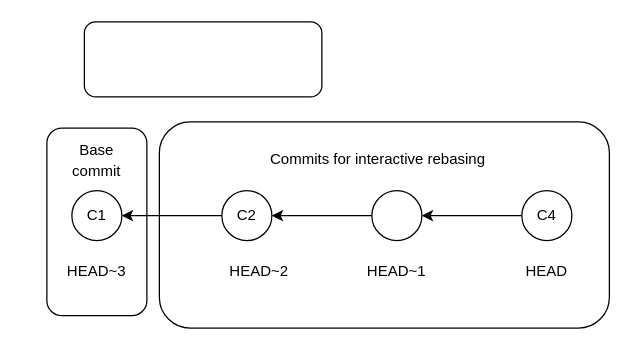
Some shapes in this 631 by 350 pixel diagram are drawn without their labels. The box of each missing label's shape, as (x1, y1, x2, y2) in pixels:
C3: (371, 189, 422, 241)
git rebase -i HEAD~3: (83, 21, 322, 97)
